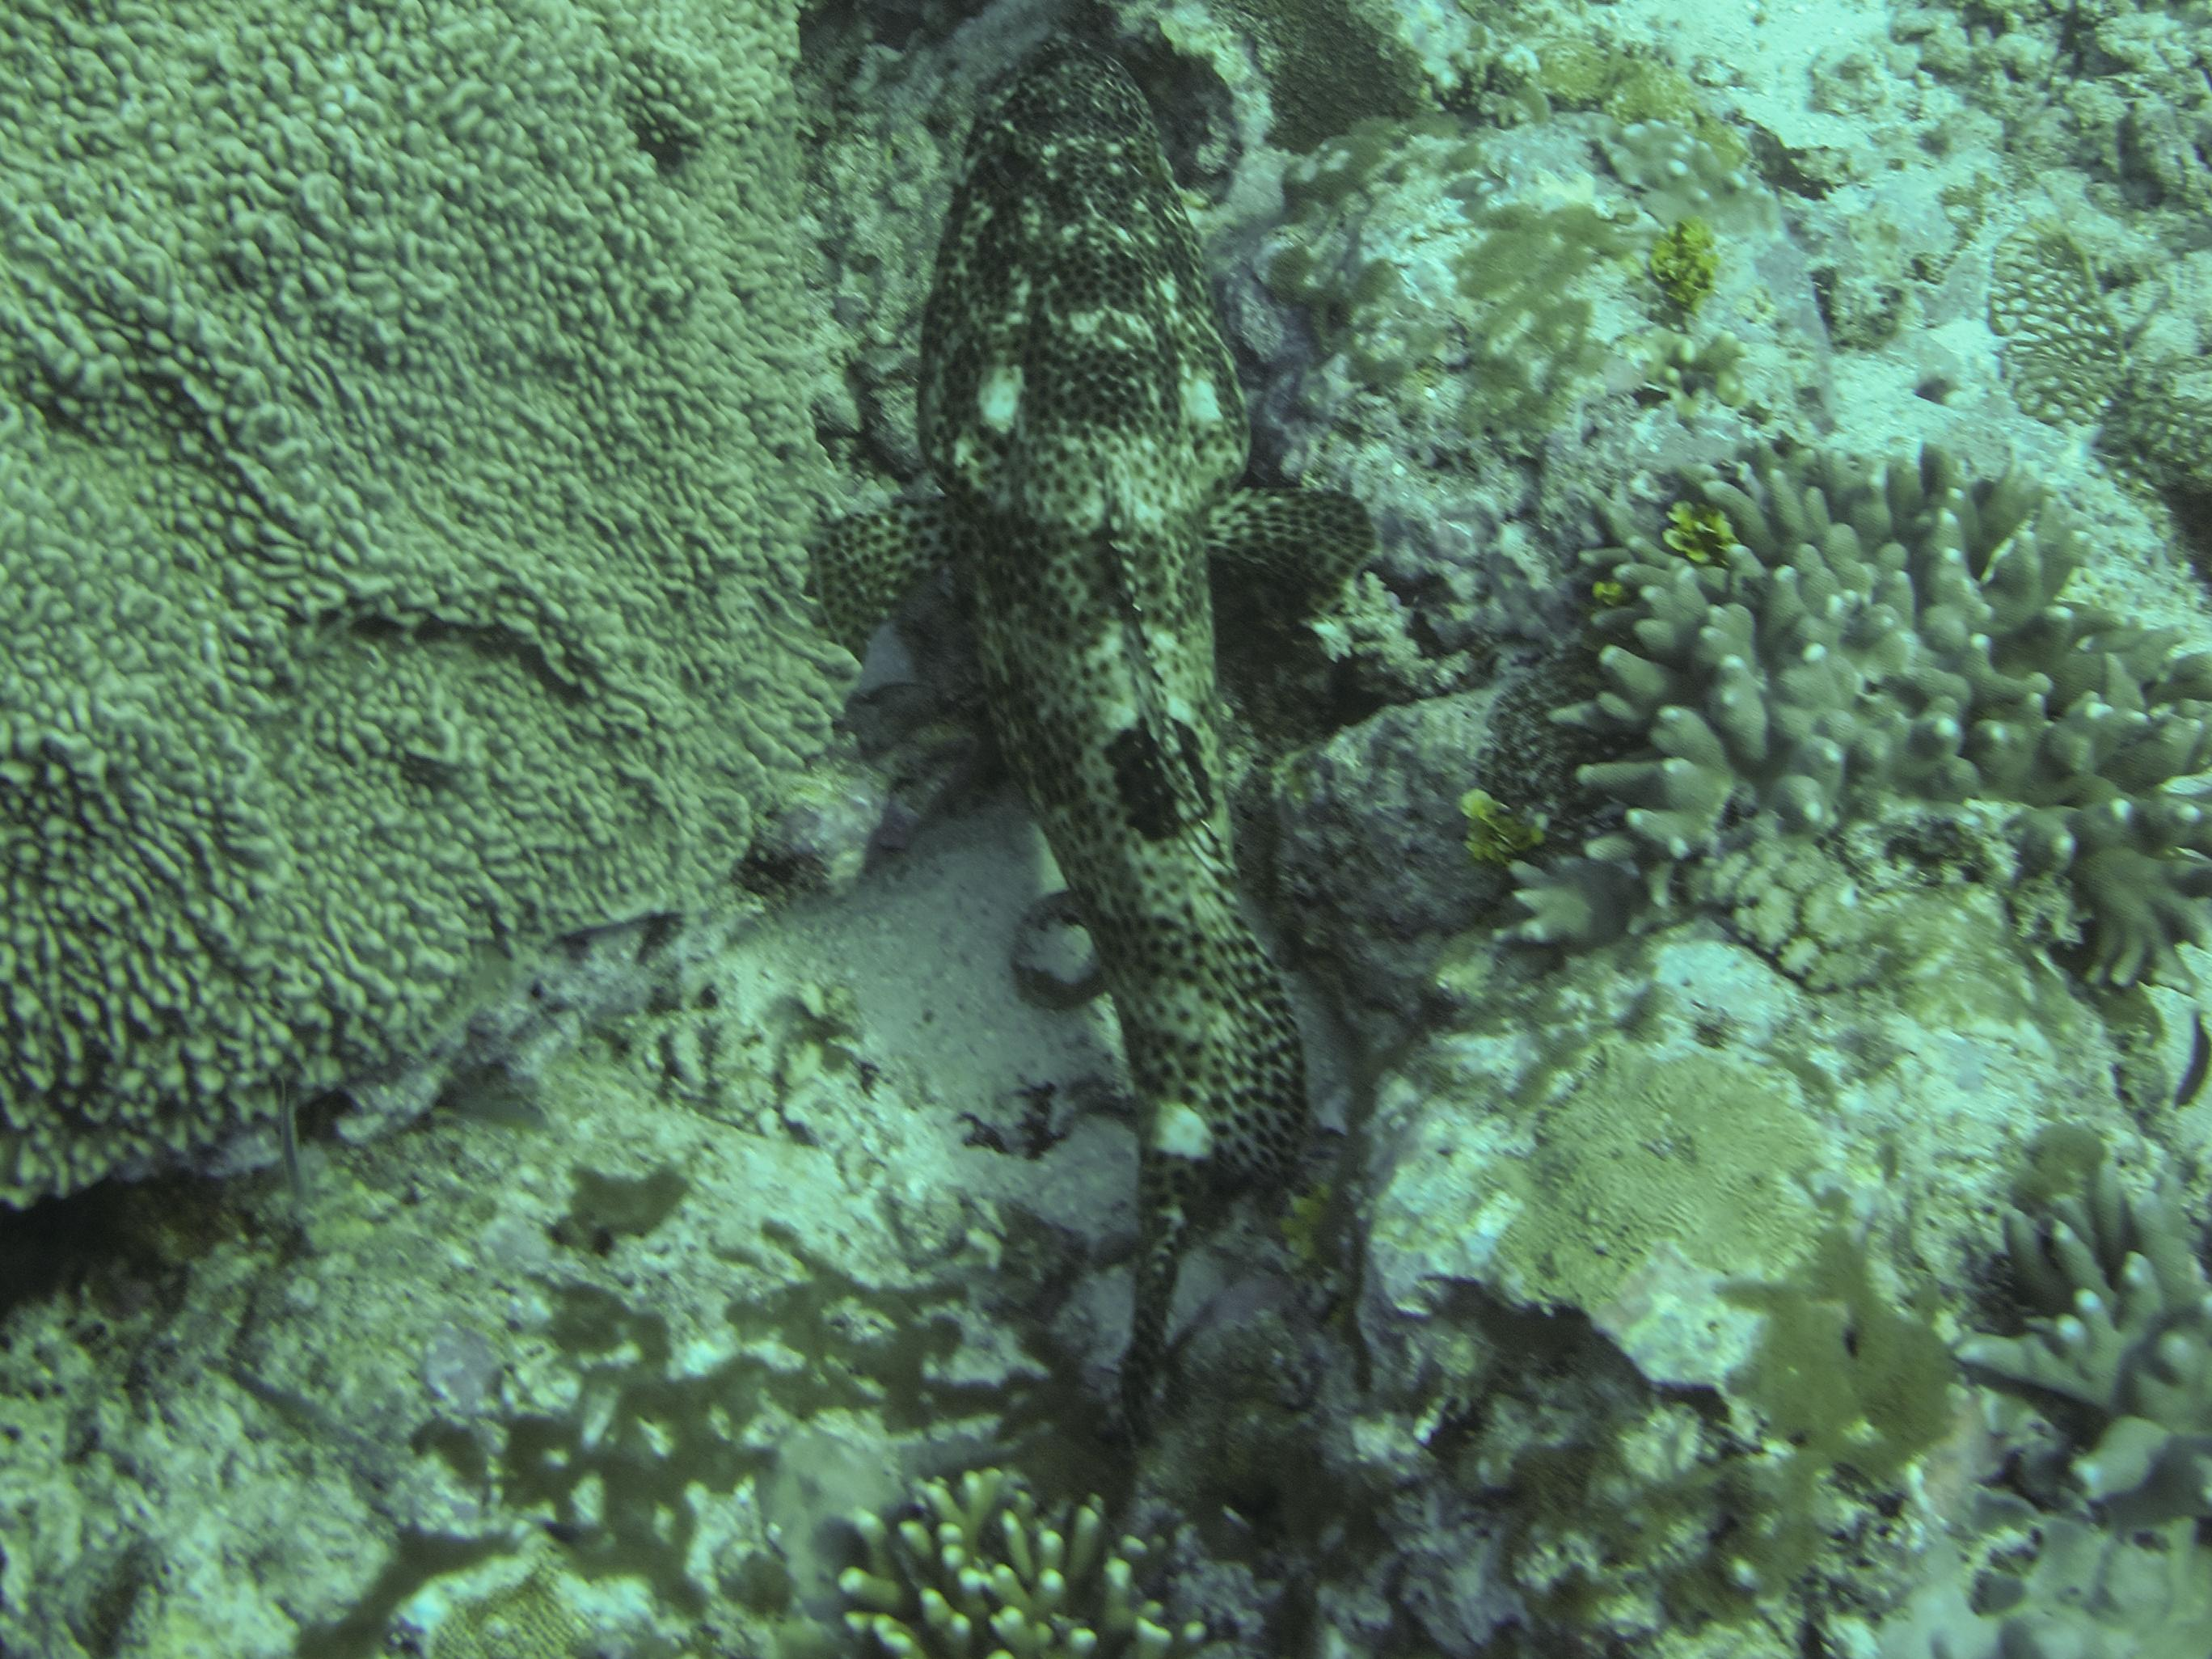Fish: (848, 16, 1474, 1471)
